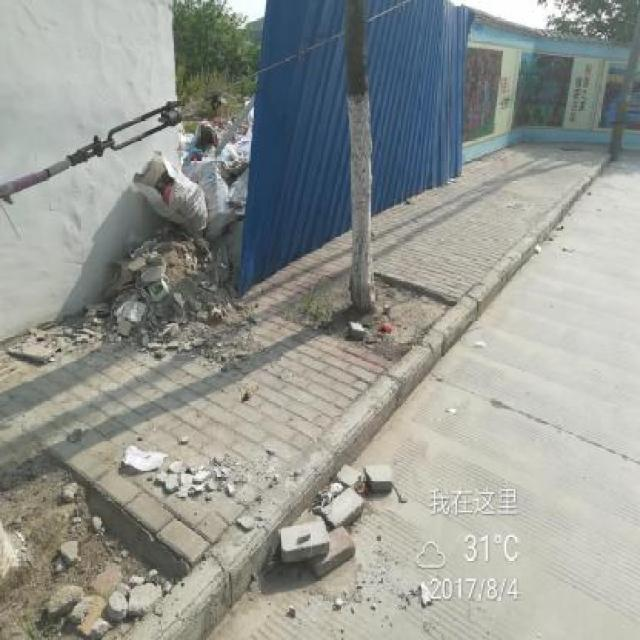garbage: (137, 125, 241, 229)
